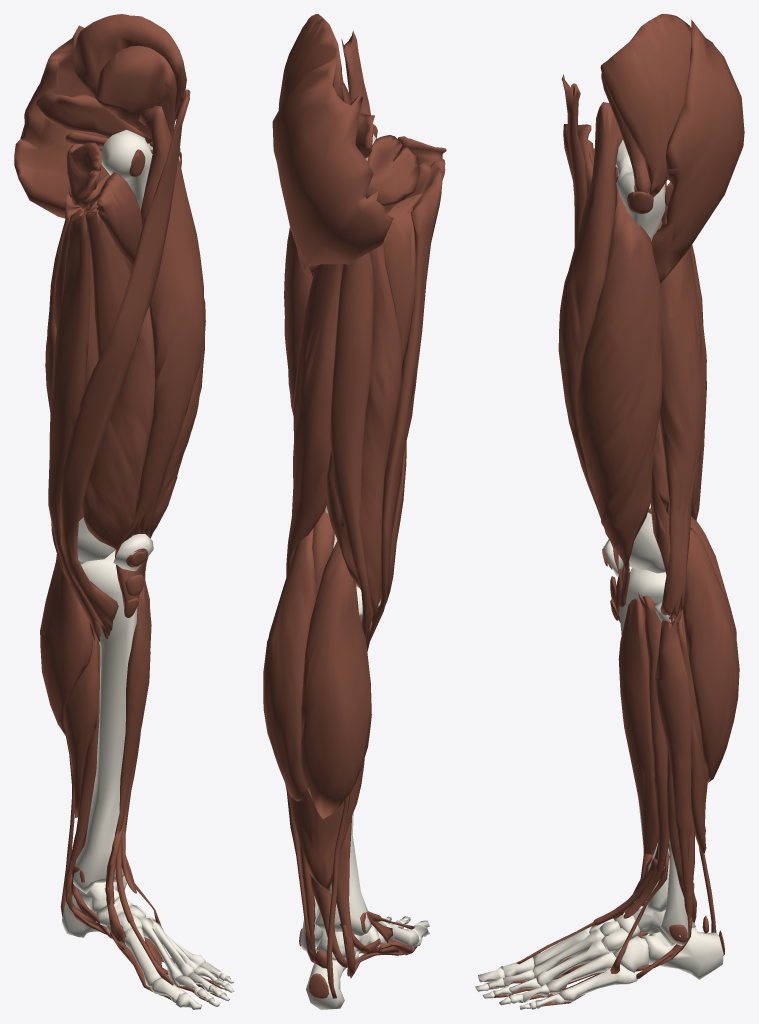
Rendered from lower_limb_left.glb.
3 renders of one model, left to right at view 1: azimuth 30°, elevation 25°; view 2: azimuth 150°, elevation 25°; view 3: azimuth 270°, elevation 25°, orthographic. The views are drawn at different scales.
Visible parts, largest first — view 1: Rectus femoris muscle, Sartorius muscle, Tibia.002, Vastus medialis muscle, Gracilis muscle.002, Gluteus maximus muscle.002, Medial head of gastrocnemius, Gluteus minimus muscle, Gluteus medius muscle.002, Tibialis anterior muscle.004, Adductor longus.002, Soleus muscle (+17 smaller); view 2: Gluteus maximus muscle.002, Medial head of gastrocnemius, Semitendinosus muscle, Long head of biceps femoris, Semimembranosus muscle, Lateral head of gastrocnemius, Gracilis muscle.002, Adductor magnus.002, Soleus muscle, Obturator internus, Gluteus medius muscle.002, Vastus lateralis muscle (+12 smaller); view 3: Vastus lateralis muscle, Gluteus maximus muscle.002, Long head of biceps femoris, Rectus femoris muscle, Gluteus medius muscle.002, Lateral head of gastrocnemius, Fibularis longus muscle, Tibialis anterior muscle.004, Extensor digitorum longus.010, Femur.002, Calcaneus, Soleus muscle (+16 smaller).
Boxes of the visible parts, bbox=[...] form: Rectus femoris muscle: bbox=[115, 105, 205, 617]; Sartorius muscle: bbox=[60, 89, 190, 639]; Tibia.002: bbox=[73, 550, 137, 894]; Vastus medialis muscle: bbox=[82, 307, 154, 591]; Gracilis muscle.002: bbox=[48, 210, 100, 641]; Gluteus maximus muscle.002: bbox=[14, 25, 109, 218]; Medial head of gastrocnemius: bbox=[40, 554, 93, 735]; Gluteus minimus muscle: bbox=[95, 45, 180, 155]; Gluteus medius muscle.002: bbox=[73, 14, 186, 130]; Tibialis anterior muscle.004: bbox=[106, 575, 150, 943]; Adductor longus.002: bbox=[85, 207, 130, 359]; Soleus muscle: bbox=[64, 633, 98, 817]; Gluteus maximus muscle.002: bbox=[272, 57, 393, 280]; Medial head of gastrocnemius: bbox=[300, 541, 371, 818]; Semitendinosus muscle: bbox=[330, 252, 374, 639]; Long head of biceps femoris: bbox=[286, 264, 342, 576]; Semimembranosus muscle: bbox=[326, 242, 401, 621]; Lateral head of gastrocnemius: bbox=[263, 528, 317, 801]; Gracilis muscle.002: bbox=[366, 167, 442, 651]; Adductor magnus.002: bbox=[383, 193, 422, 368]; Soleus muscle: bbox=[287, 759, 364, 890]; Obturator internus: bbox=[365, 135, 420, 206]; Gluteus medius muscle.002: bbox=[278, 14, 344, 109]; Vastus lateralis muscle: bbox=[284, 228, 311, 415]; Vastus lateralis muscle: bbox=[577, 176, 662, 606]; Gluteus maximus muscle.002: bbox=[651, 19, 744, 283]; Long head of biceps femoris: bbox=[659, 247, 706, 619]; Rectus femoris muscle: bbox=[558, 102, 622, 622]; Gluteus medius muscle.002: bbox=[600, 14, 691, 197]; Lateral head of gastrocnemius: bbox=[683, 527, 739, 782]; Fibularis longus muscle: bbox=[606, 611, 691, 971]; Tibialis anterior muscle.004: bbox=[610, 598, 658, 919]; Extensor digitorum longus.010: bbox=[638, 592, 669, 906]; Femur.002: bbox=[615, 139, 665, 573]; Calcaneus: bbox=[640, 927, 723, 979]; Soleus muscle: bbox=[678, 610, 707, 853].
Bounding box in the file's own units: 0.1567 × 0.9887 × 0.248.
